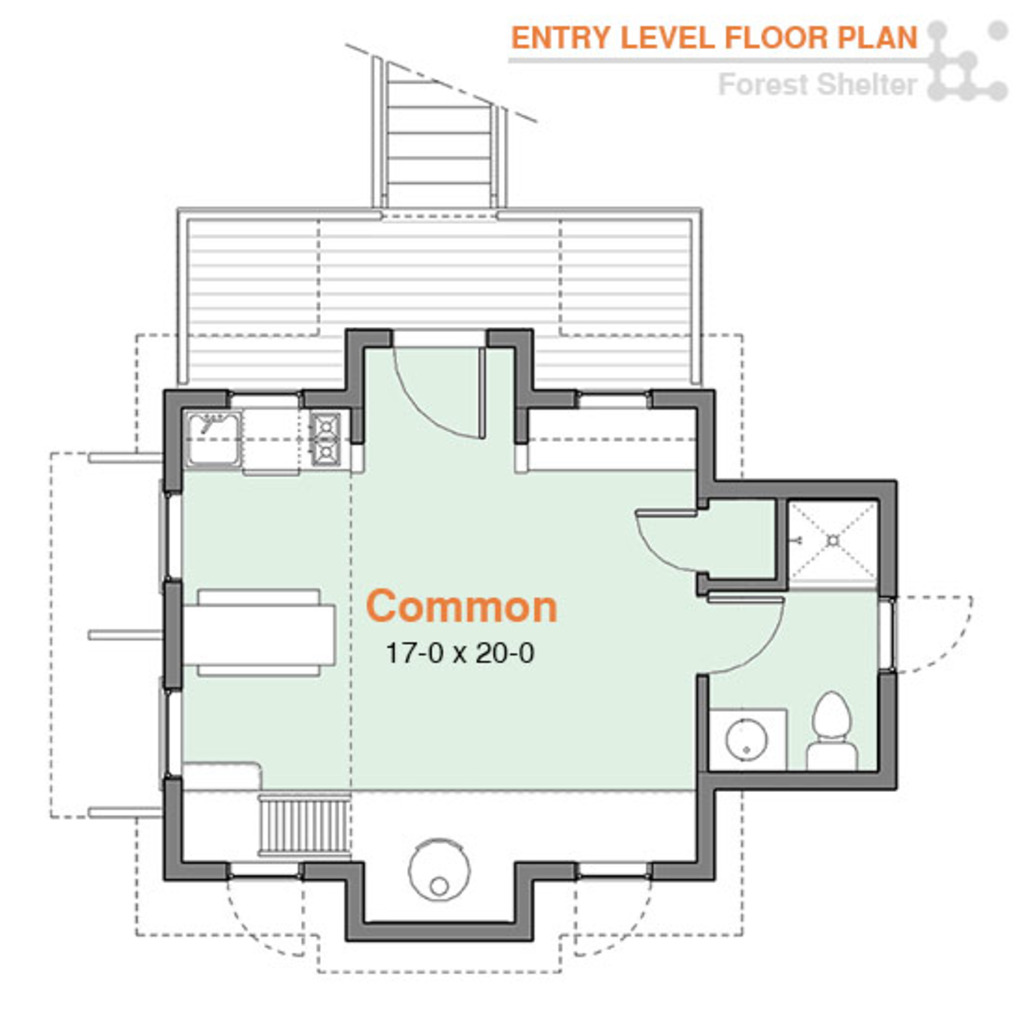door: (367, 322, 511, 442), (680, 583, 791, 680), (216, 861, 314, 967), (875, 585, 978, 675), (571, 859, 654, 964), (627, 492, 717, 583)
large_sink: (789, 671, 869, 769)
small_sink: (708, 696, 788, 775)
stairs: (358, 46, 519, 228), (242, 785, 367, 866)
